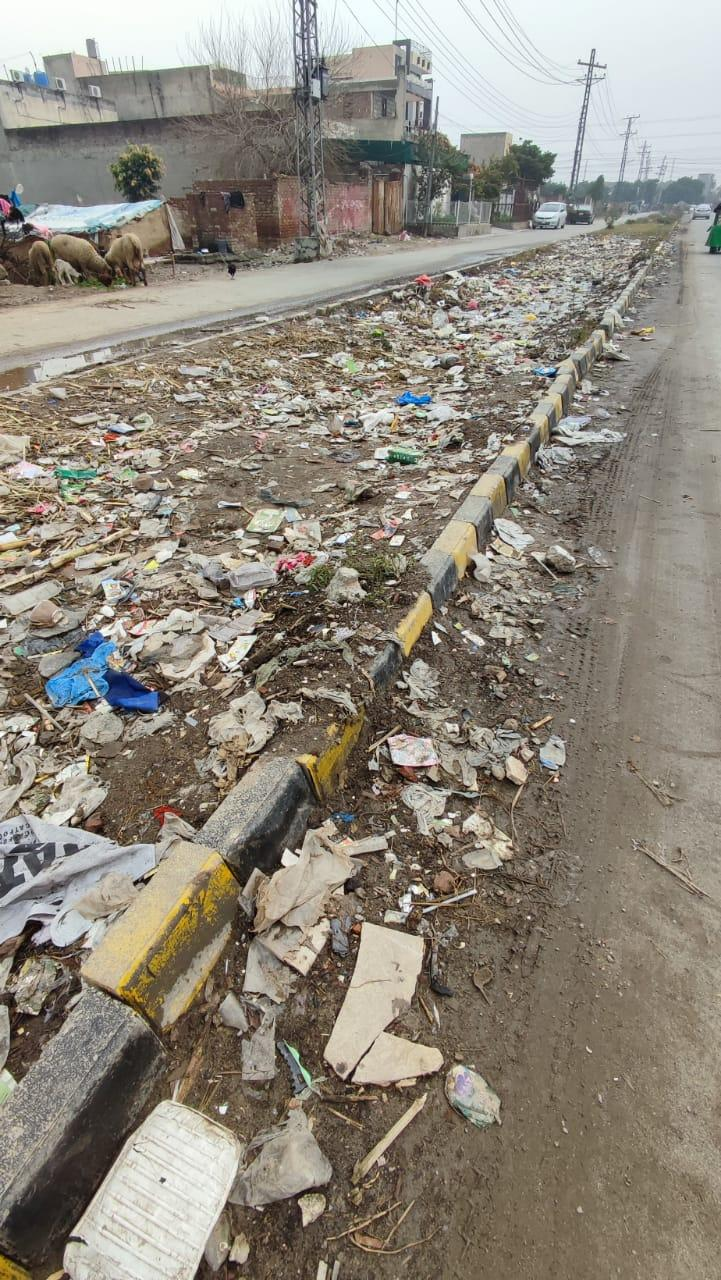garbage: (84, 283, 579, 1033)
